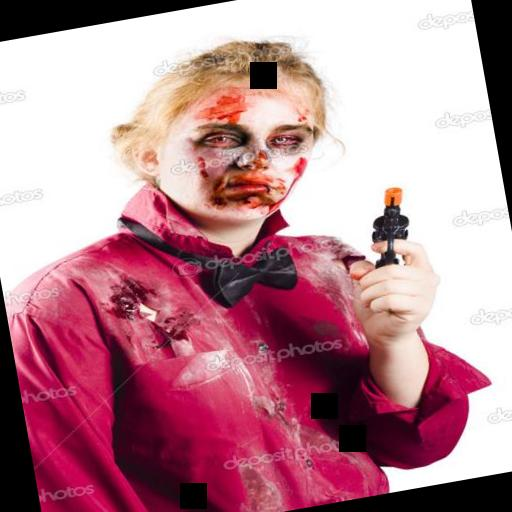Handgun: (358, 176, 434, 284)
